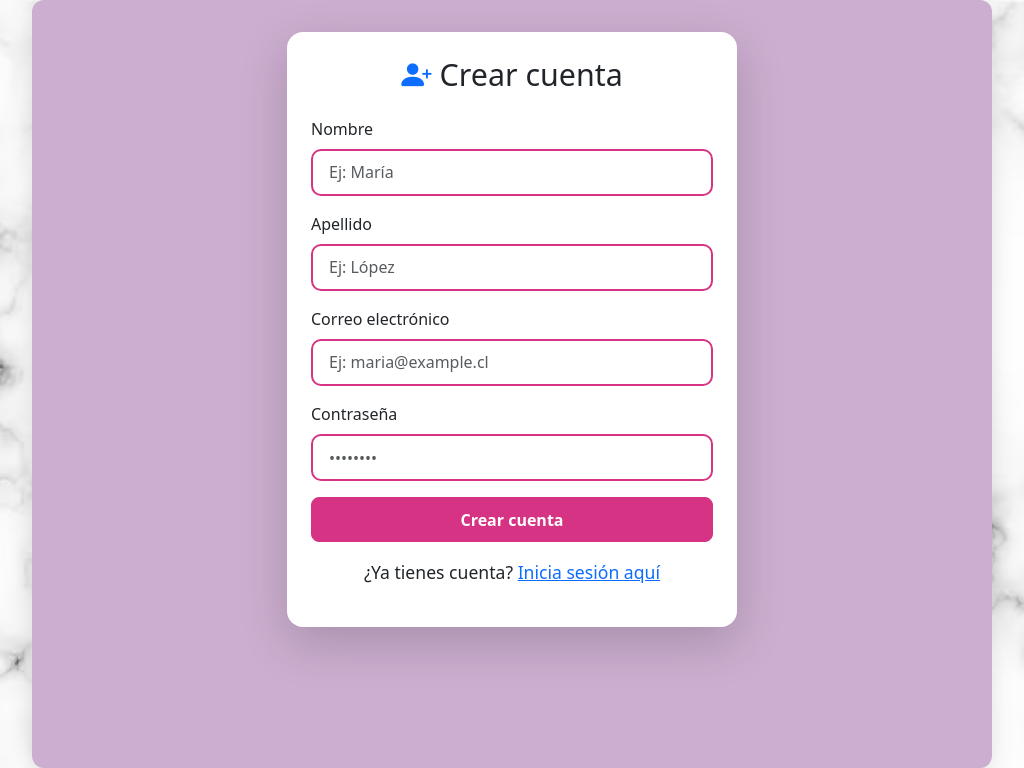
Test: Registro page › registra exitosamente, guarda token/user y redirige
Type "María" into the field with placeholder "Ej: María".
click(512, 172); type("María")  # box [311,148,713,196]
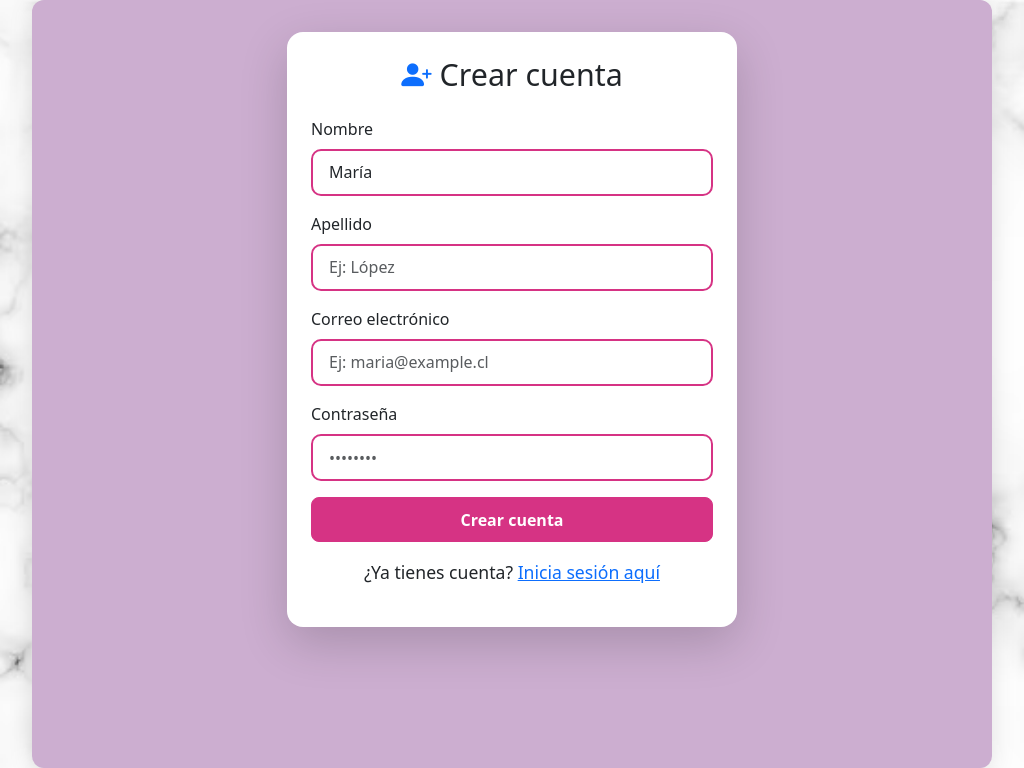
Type "López" into the field with placeholder "Ej: López".
click(512, 267); type("López")  # box [311,244,713,291]
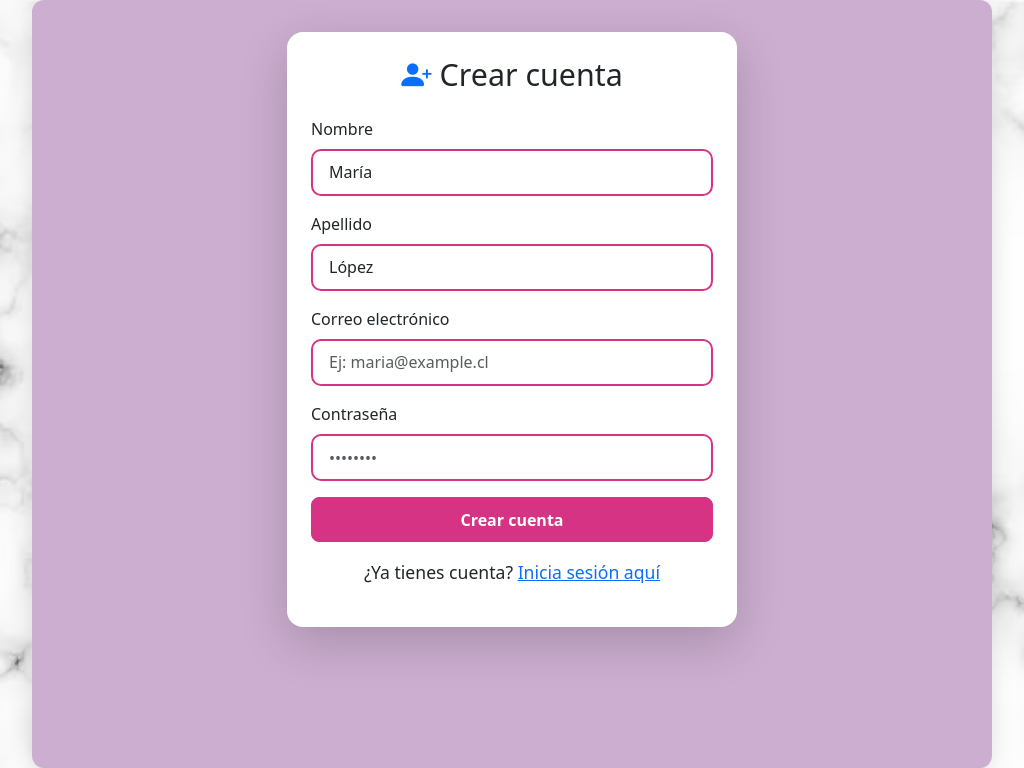
Type "maria@example.cl" into the field with placeholder "Ej: maria@example.cl".
click(512, 362); type("maria@example.cl")  # box [311,339,713,386]
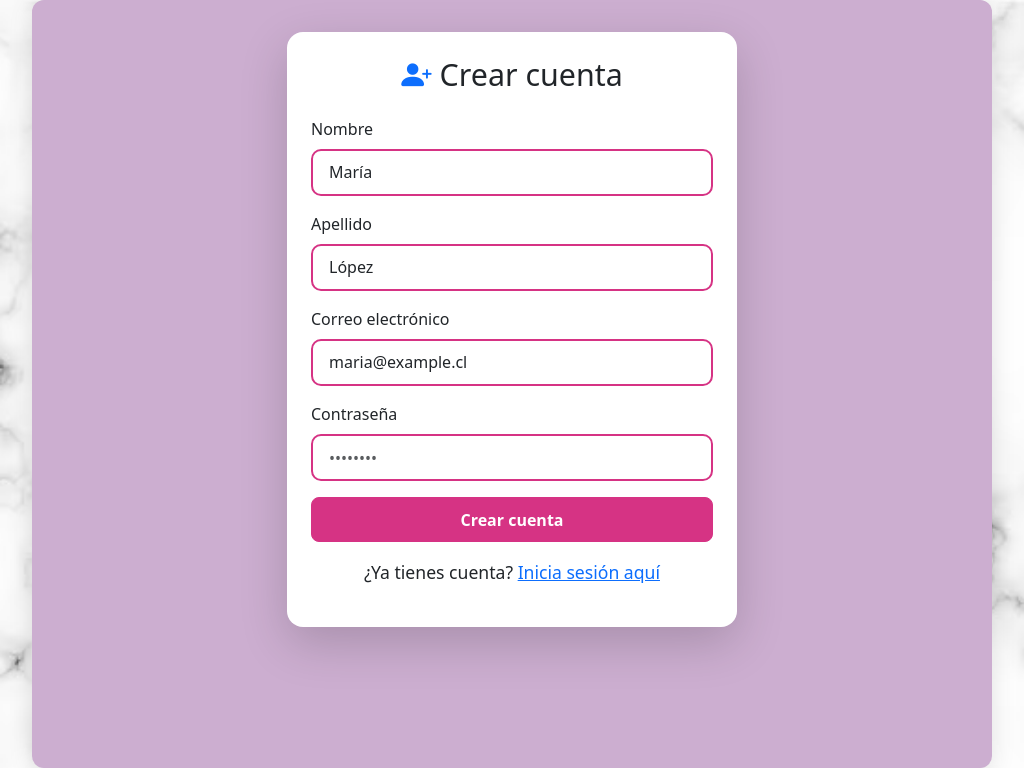
Type "12345" into the password field with placeholder "••••••••".
click(512, 458); type("12345")  # box [311,434,713,481]
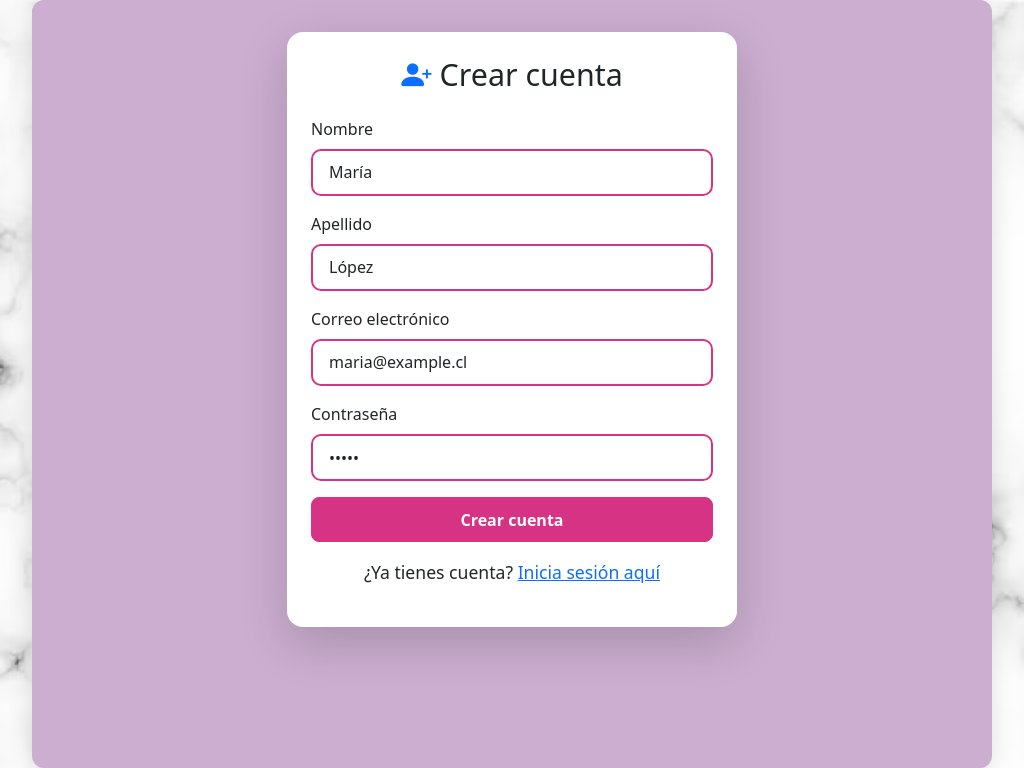
Submit the form with test id "register-form", box [311,116,713,587]
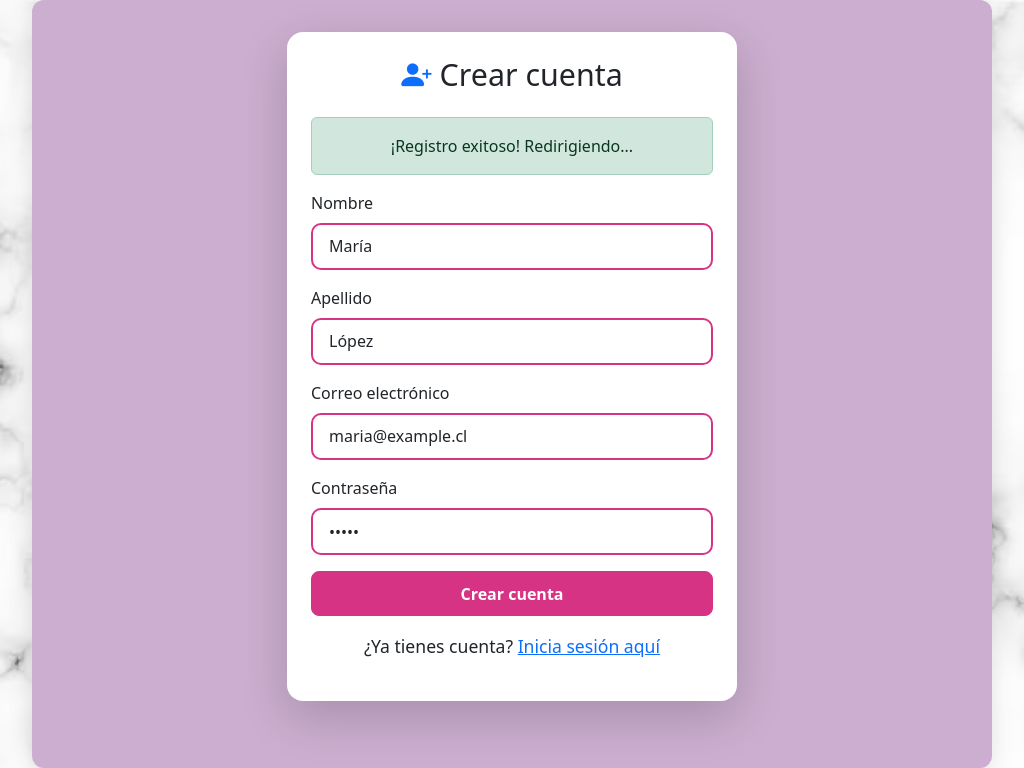
expect the text "¡Registro exitoso! Redirigiendo..." is shown: met, box [311,116,713,174]
